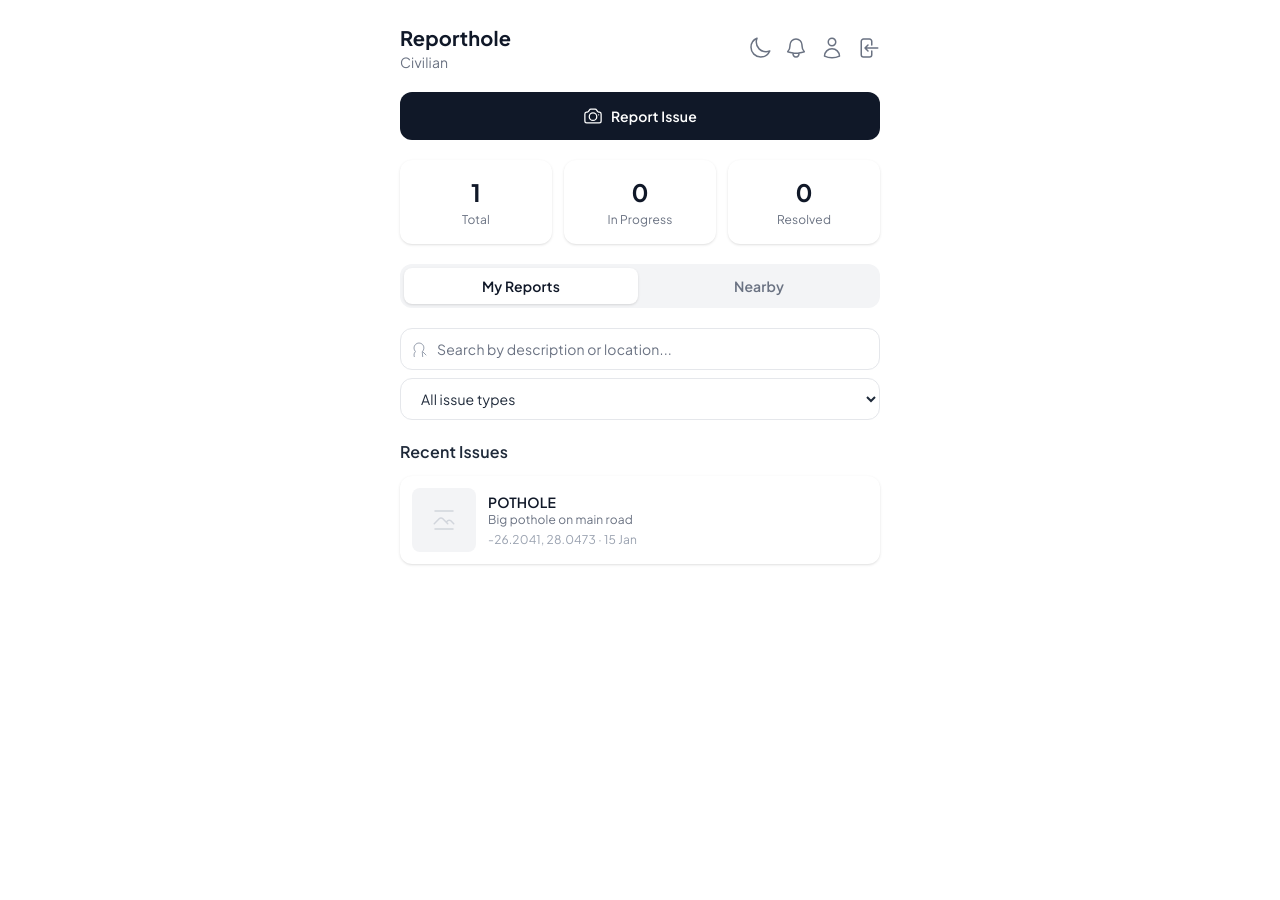
it: CivilianDashboard › report modal › closes the modal when Cancel is clicked on the chooser
The width and height of the screenshot is (1280, 900).
Click the button "Report Issue" at [640, 116], box left=400, top=92, right=880, bottom=140
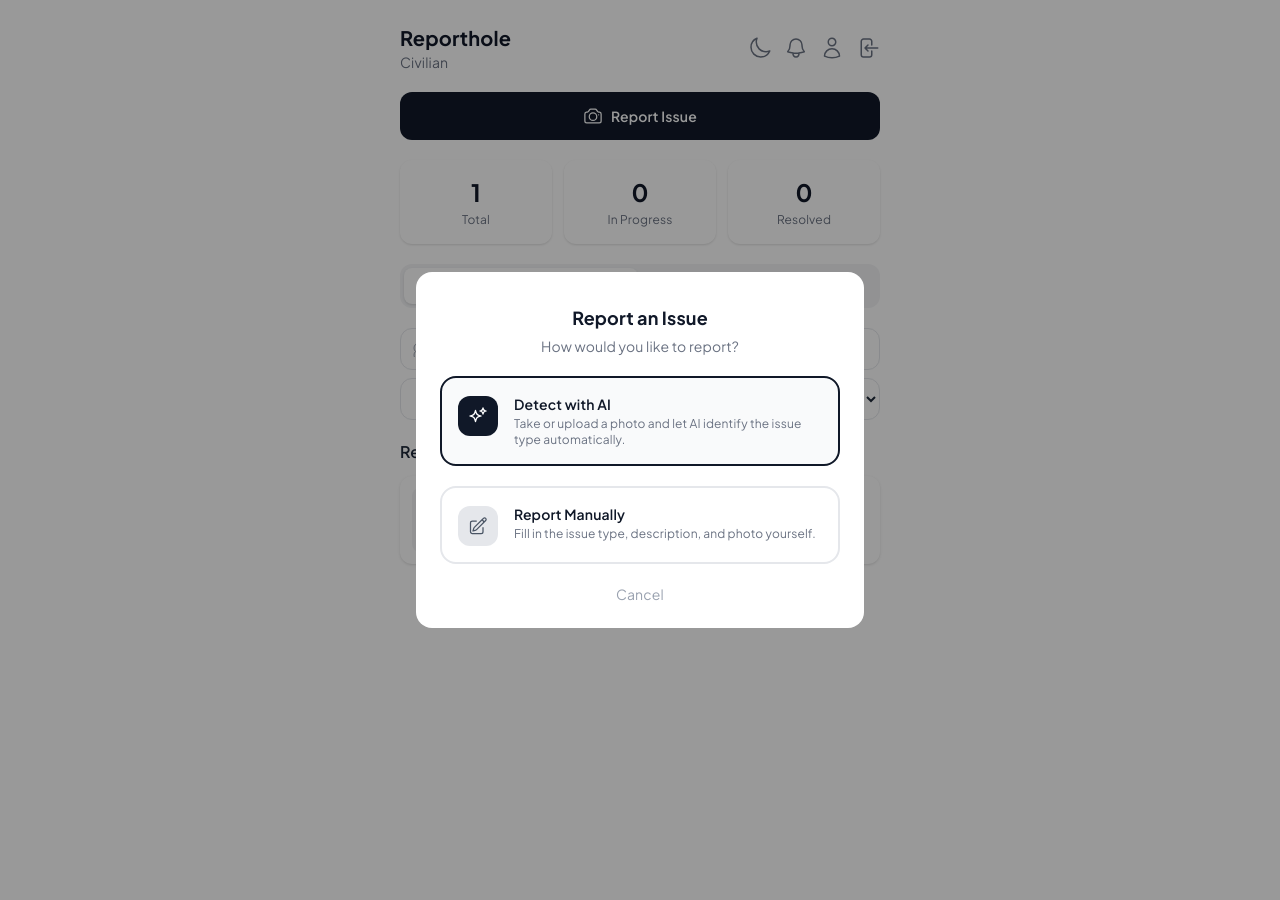
Click the button "Cancel" at [640, 594], box left=440, top=584, right=840, bottom=604
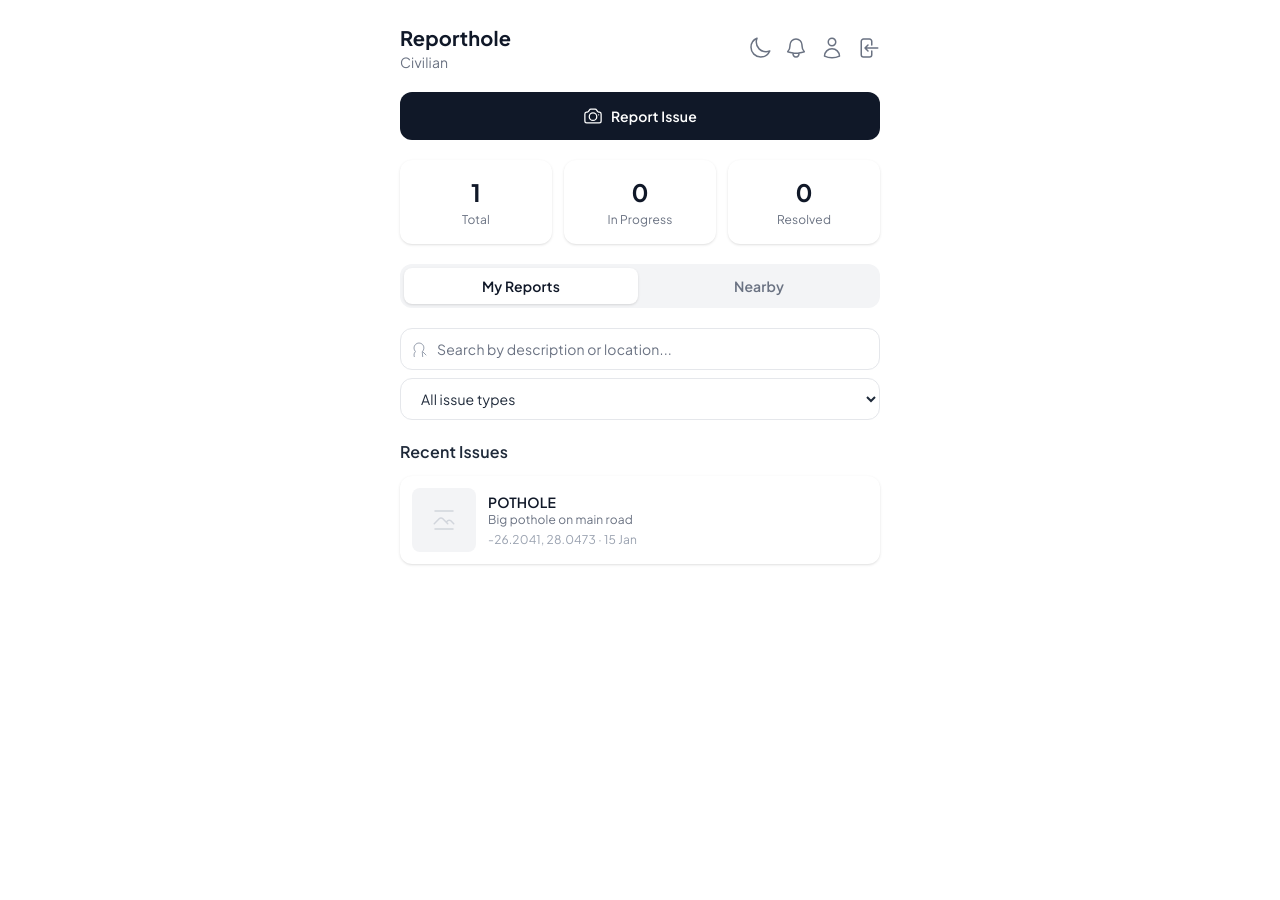
Check: the heading "Report an Issue" is gone
